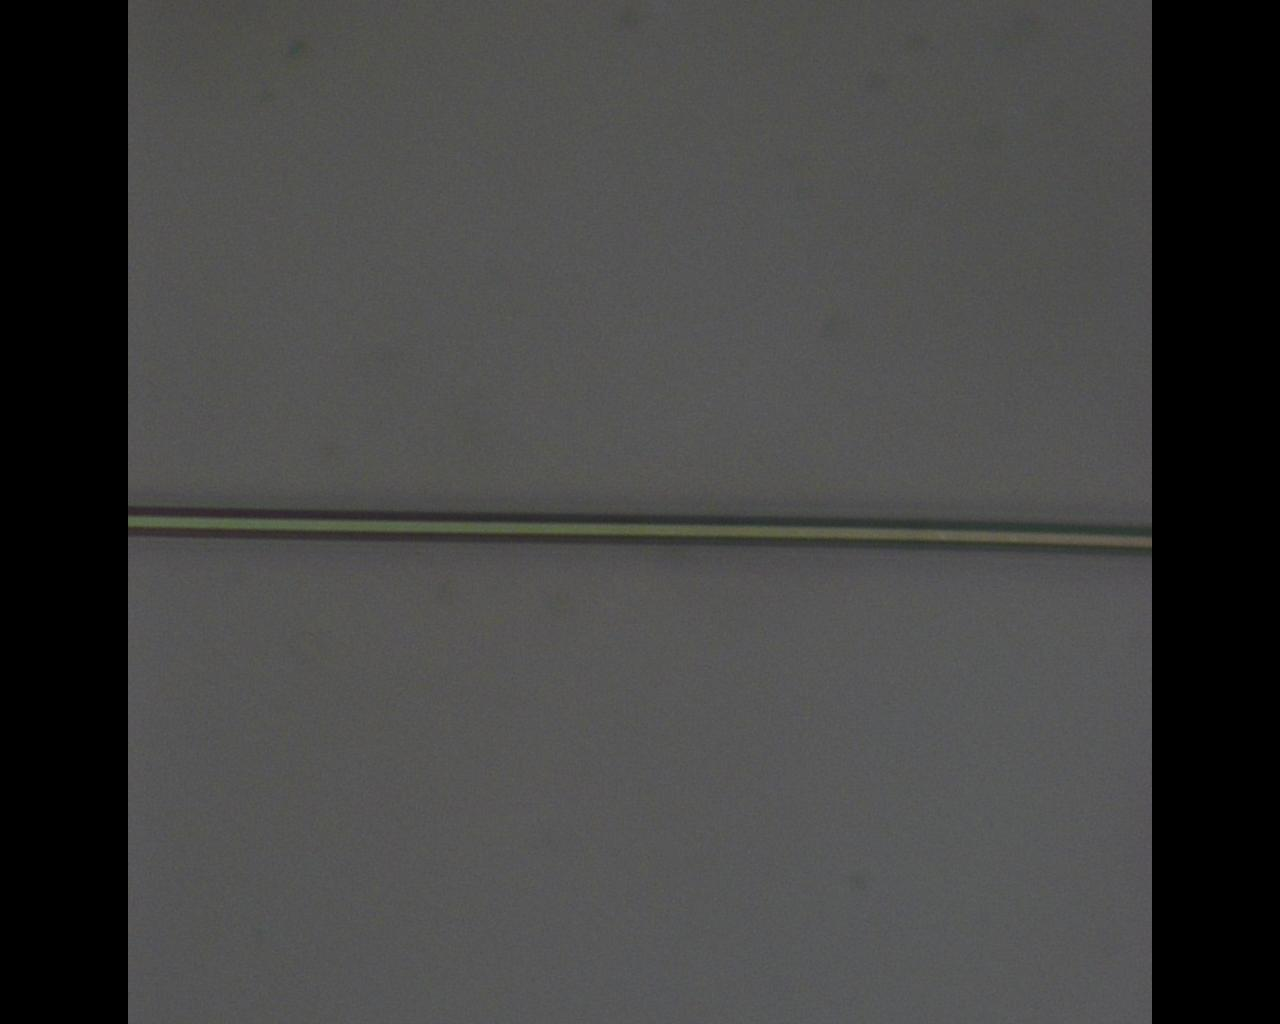fiber: (127, 507, 1151, 557)
